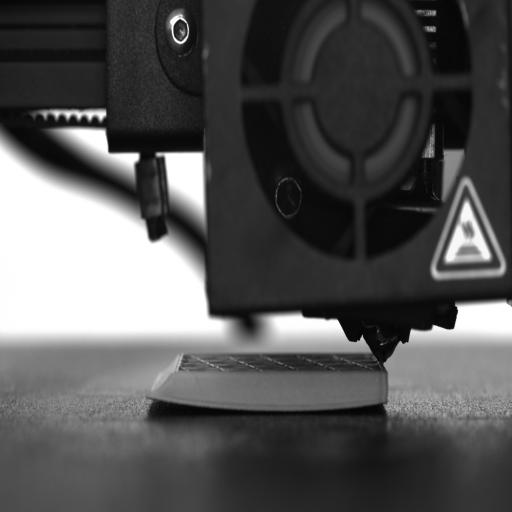warp: (144, 382, 211, 420)
